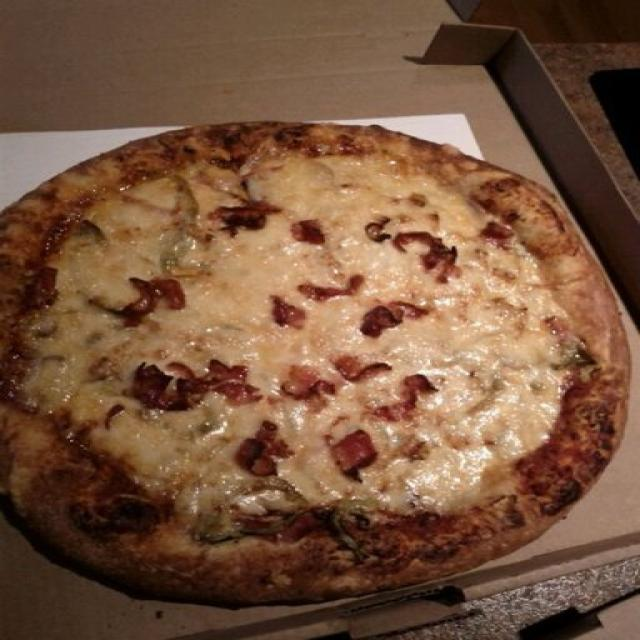Cheese: (452, 305, 536, 432), (56, 304, 95, 406)
Ham: (125, 358, 258, 416), (369, 214, 474, 281), (280, 358, 392, 408), (115, 266, 201, 324), (284, 271, 376, 306), (237, 417, 289, 473), (320, 425, 374, 478), (360, 293, 425, 332), (387, 367, 434, 420), (206, 206, 284, 233), (256, 289, 299, 331), (289, 217, 335, 252)
Pizza: (0, 122, 632, 608)
